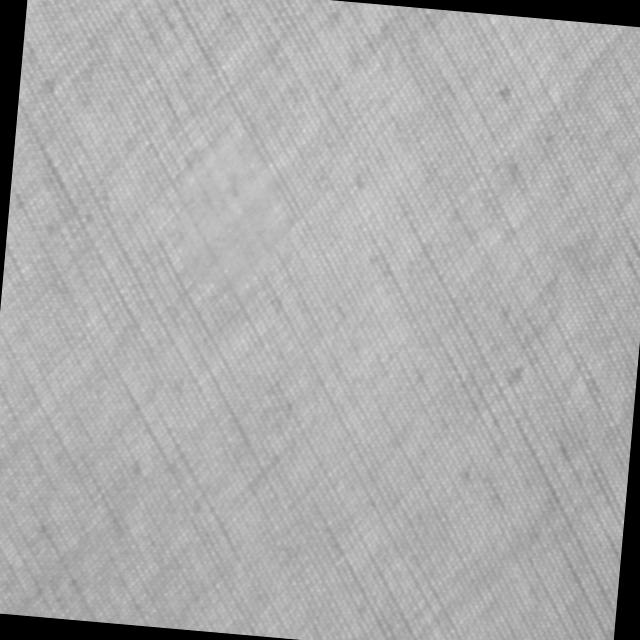oil spot: (164, 121, 298, 313)
